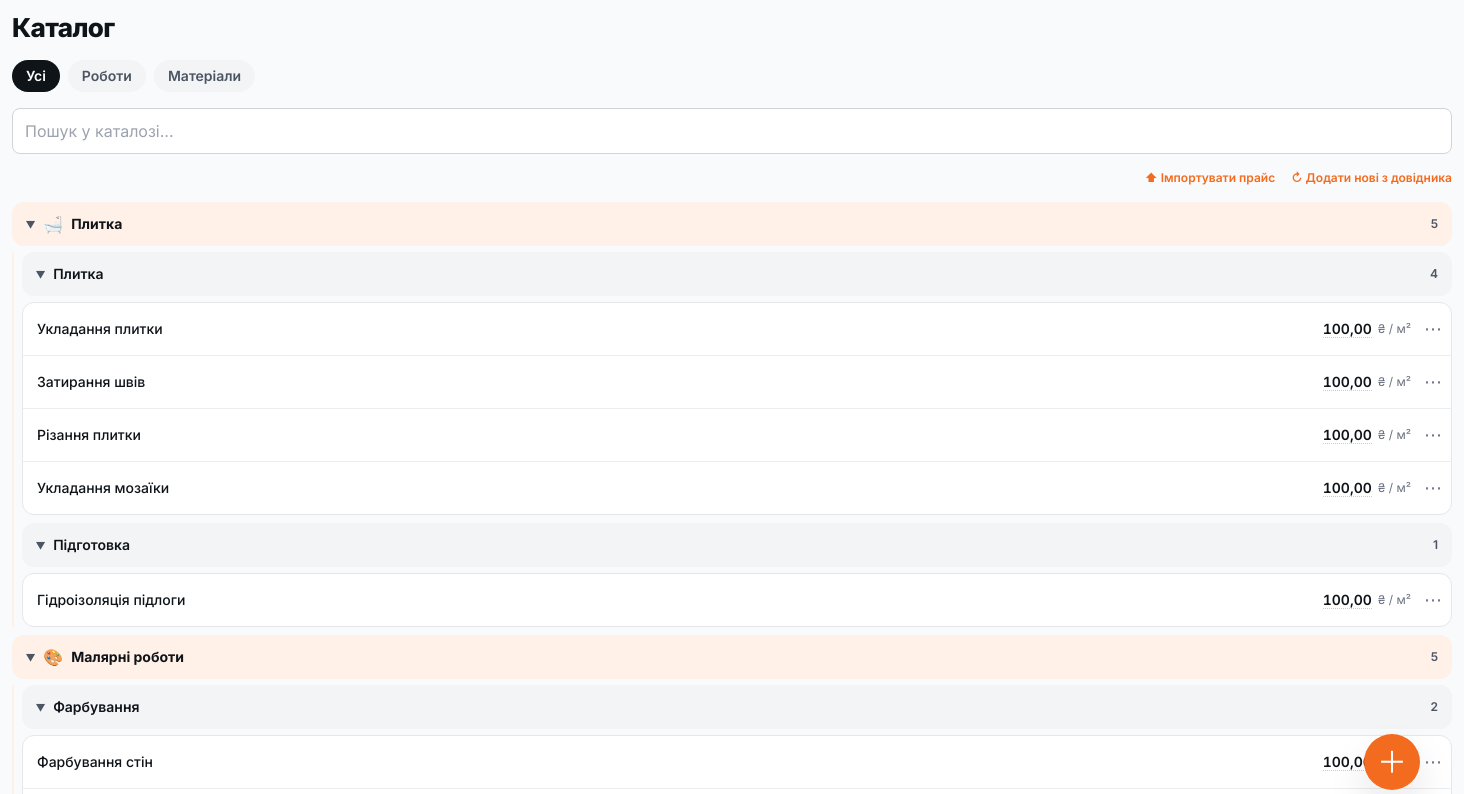
Scenario: CatalogPage — trade is a level, not a filter › search cuts across the trades and opens every level, so nothing hides in a shut folder
Expected: the button "Укладання плитки" is shown, [37, 320, 163, 337]
Click the button with test id "catalog-trade" showing "▶ 🎨 Малярні роботи 5".
click(128, 656)  # box [12, 635, 1452, 679]
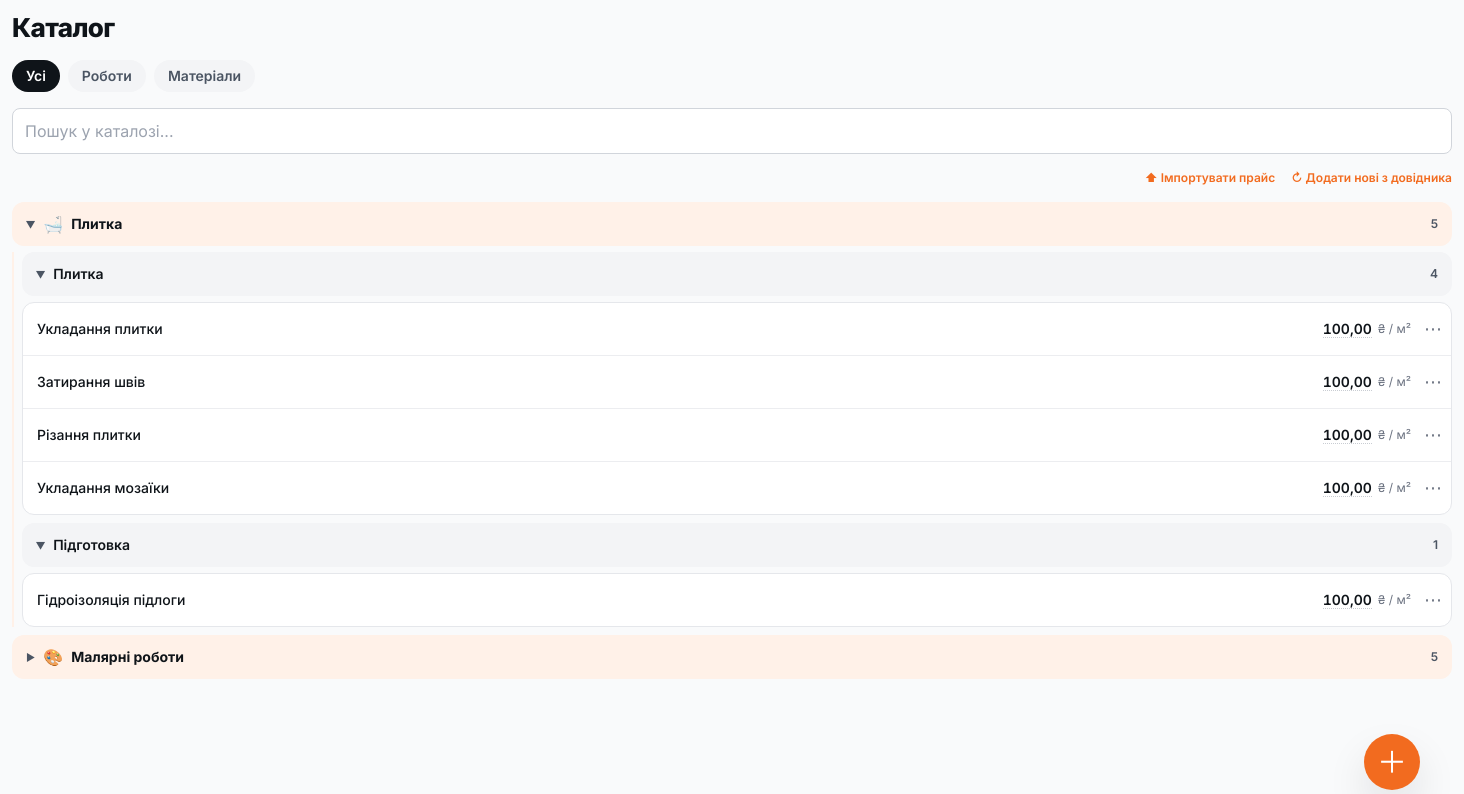
Result: the button "Фарбування стін" is gone
Type "фарбування" into the field with placeholder "Пошук у каталозі...".
click(732, 131); type("фарбування")  # box [12, 108, 1452, 154]
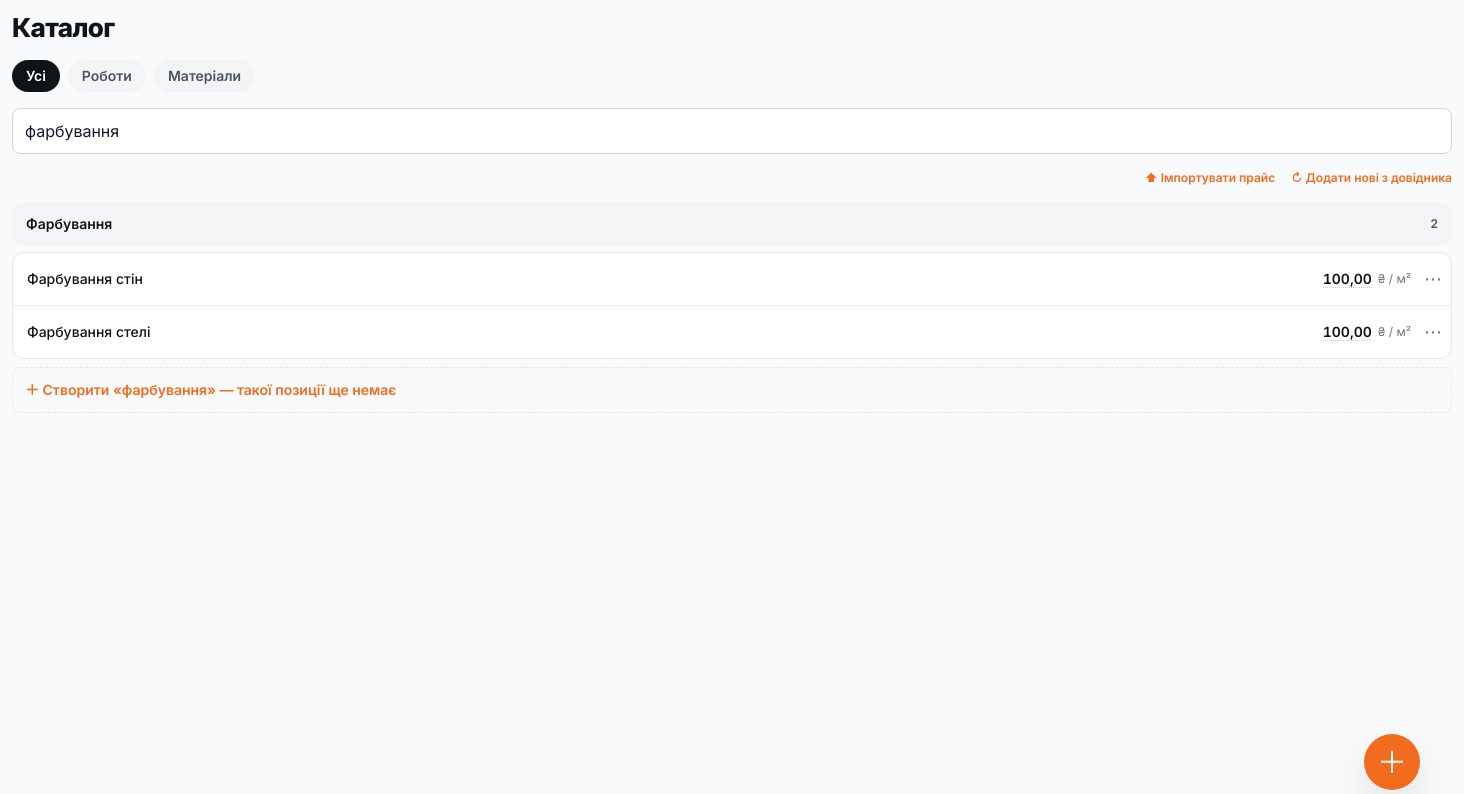
Result: the button "Фарбування стін" is shown at [27, 270, 143, 287]
Result: the button "Фарбування стелі" is shown at [27, 323, 150, 340]
Result: the button "Укладання плитки" is gone
